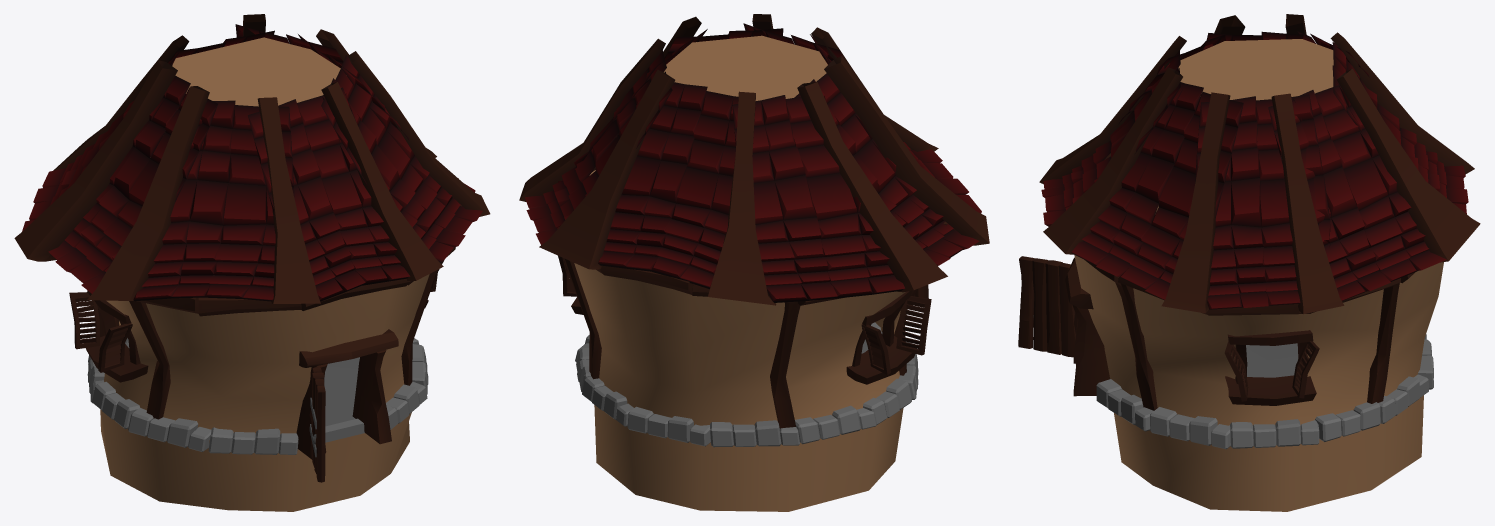
Rendered from House_Small.fbx.
The picture shows the model from 3 angles, left to right: view 1: azimuth 30°, elevation 25°; view 2: azimuth 150°, elevation 25°; view 3: azimuth 270°, elevation 25°; orthographic projection.
Visible parts, largest first — view 1: pCube5481; view 2: pCube5481; view 3: pCube5481.
Part boxes in pixels (x1=…): pCube5481: x1=14, y1=14, x2=490, y2=511; pCube5481: x1=519, y1=14, x2=989, y2=511; pCube5481: x1=1018, y1=14, x2=1480, y2=511.
Bounding box in the file's own units: 1604 × 1465 × 1553.
